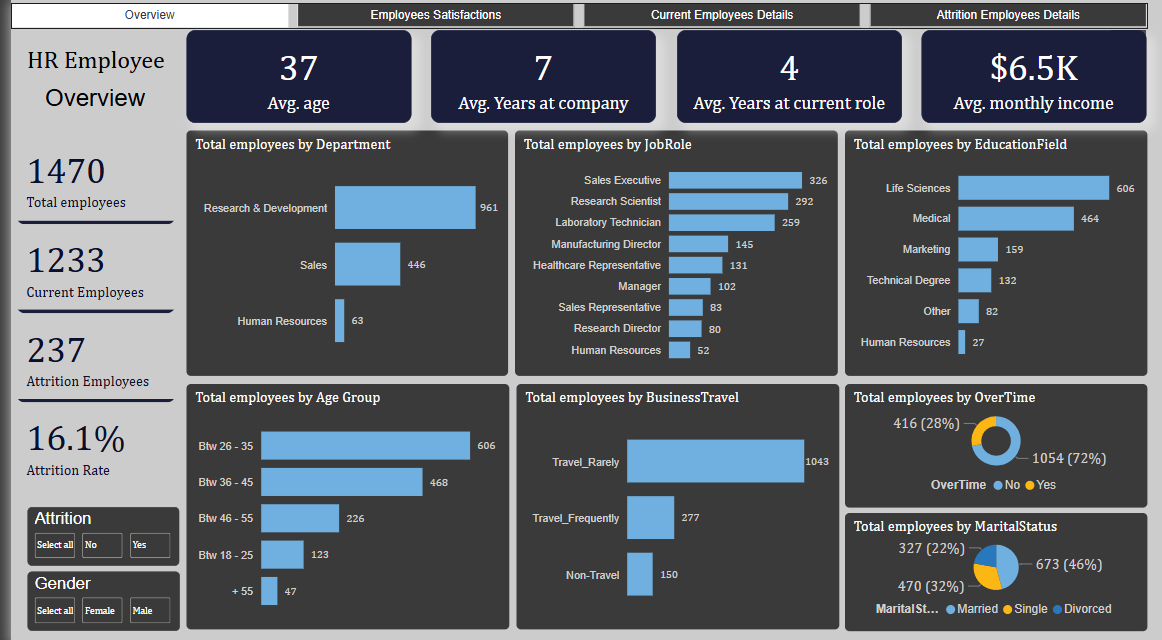

This screenshot's page, from the dashboard's own definition file:
{"tool":"powerbi","page":{"name":"Overview","canvas":[1280,720],"ordinal":0},"visuals":[{"type":"shape","box":[12.5,63.8,171.2,636.2],"z":0},{"type":"pageNavigator","box":[12.5,15,1256.2,37.5],"z":1000},{"type":"textbox","box":[12.5,65,171.2,41.2],"z":2000},{"type":"textbox","box":[22.2,96.7,151.1,48.9],"z":3000},{"type":"card","title":"Avg. age","fields":{"Values":["_Measures.Avg. age"]},"box":[195,63.8,263.8,72.5],"z":4000},{"type":"card","title":"Avg. Years at company","fields":{"Values":["_Measures.Avg. Years at company"]},"box":[468.8,65,261.2,71.2],"z":5000},{"type":"card","title":"Avg. monthly income","fields":{"Values":["_Measures.Avg. monthly income"]},"box":[1016.2,65,252.5,71.2],"z":6000},{"type":"card","title":"Avg. Years at current role","fields":{"Values":["_Measures.Avg. Years at current role"]},"box":[742.5,65,265,71.2],"z":7000},{"type":"slicer","fields":{"Values":["HR-Employee-Attrition.Gender"]},"box":[22.5,628.8,151.2,63.8],"z":8000},{"type":"barChart","fields":{"Category":["HR-Employee-Attrition.EducationField"],"Y":["_Measures.Total emplyees"]},"box":[927.1,145.7,341.4,272.9],"z":9000},{"type":"barChart","fields":{"Category":["HR-Employee-Attrition.JobRole"],"Y":["_Measures.Total emplyees"]},"box":[560,145.6,358.6,272.9],"z":10000},{"type":"barChart","fields":{"Category":["HR-Employee-Attrition.Department"],"Y":["_Measures.Total employees"]},"box":[561.4,427.1,357.1,135.7],"z":11000},{"type":"barChart","fields":{"Category":["HR-Employee-Attrition.Age Group"],"Y":["_Measures.Total emplyees"]},"box":[194.3,427,358.6,272.9],"z":12000},{"type":"barChart","fields":{"Category":["HR-Employee-Attrition.BusinessTravel"],"Y":["_Measures.Total emplyees"]},"box":[560,568.6,358.6,131.4],"z":13000},{"type":"donutChart","fields":{"Y":["_Measures.Total emplyees"],"Category":["HR-Employee-Attrition.OverTime"]},"box":[195.7,148.6,357.1,270],"z":14000},{"type":"pieChart","fields":{"Y":["_Measures.Total emplyees"],"Category":["HR-Employee-Attrition.MaritalStatus"]},"box":[927.1,427.1,341.4,274.3],"z":15000},{"type":"slicer","fields":{"Values":["HR-Employee-Attrition.Attrition"]},"box":[22.2,553.3,151.1,64.4],"z":16000},{"type":"cardVisual","fields":{"Data":["_Measures.Total employees","_Measures.Current Employees","_Measures.Attrition Employees","_Measures.Attrition Rate"]},"box":[22.2,145.6,151.1,398.9],"z":17000}]}

Visuals, with their boxes in screenshot pixels (x1, y1, x2, y2), scaled from the page's 1280x720 canvas onto the 1162x640 screenshot:
shape: 11, 57, 167, 622
pageNavigator: 11, 13, 1152, 47
textbox: 11, 58, 167, 94
textbox: 20, 86, 157, 129
"Avg. age" card: 177, 57, 417, 121
"Avg. Years at company" card: 426, 58, 663, 121
"Avg. monthly income" card: 923, 58, 1152, 121
"Avg. Years at current role" card: 674, 58, 915, 121
slicer - HR-Employee-Attrition.Gender: 20, 559, 158, 616
barChart - HR-Employee-Attrition.EducationField x _Measures.Total emplyees: 842, 130, 1152, 372
barChart - HR-Employee-Attrition.JobRole x _Measures.Total emplyees: 508, 129, 834, 372
barChart - HR-Employee-Attrition.Department x _Measures.Total employees: 510, 380, 834, 500
barChart - HR-Employee-Attrition.Age Group x _Measures.Total emplyees: 176, 380, 502, 622
barChart - HR-Employee-Attrition.BusinessTravel x _Measures.Total emplyees: 508, 505, 834, 622
donutChart - _Measures.Total emplyees x HR-Employee-Attrition.OverTime: 178, 132, 502, 372
pieChart - _Measures.Total emplyees x HR-Employee-Attrition.MaritalStatus: 842, 380, 1152, 623
slicer - HR-Employee-Attrition.Attrition: 20, 492, 157, 549
cardVisual - _Measures.Total employees x _Measures.Current Employees: 20, 129, 157, 484
